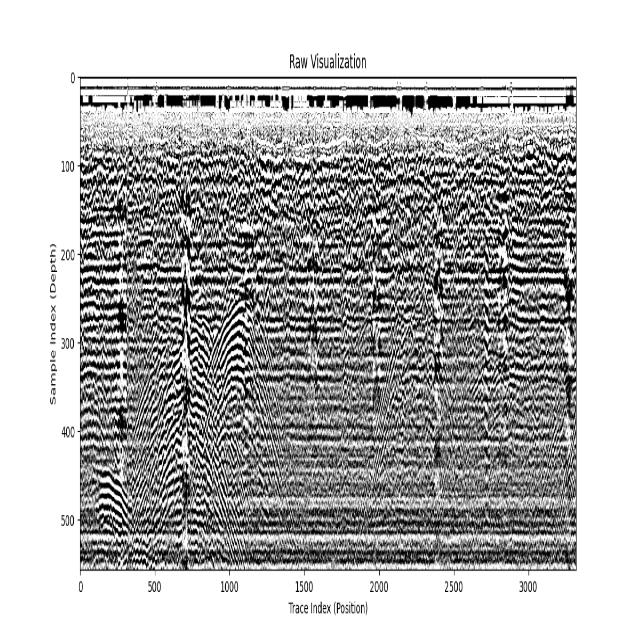anomaly: (170, 304, 302, 564), (348, 272, 442, 563), (133, 322, 224, 558), (536, 370, 577, 570), (483, 204, 508, 486), (176, 197, 193, 566), (562, 212, 576, 542), (115, 197, 127, 494), (308, 209, 319, 461), (370, 191, 379, 432)
